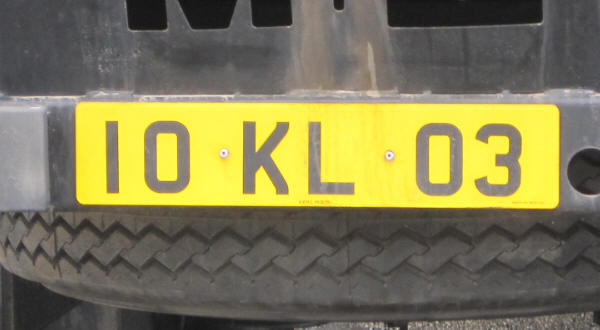license_plate: (74, 102, 559, 209)
